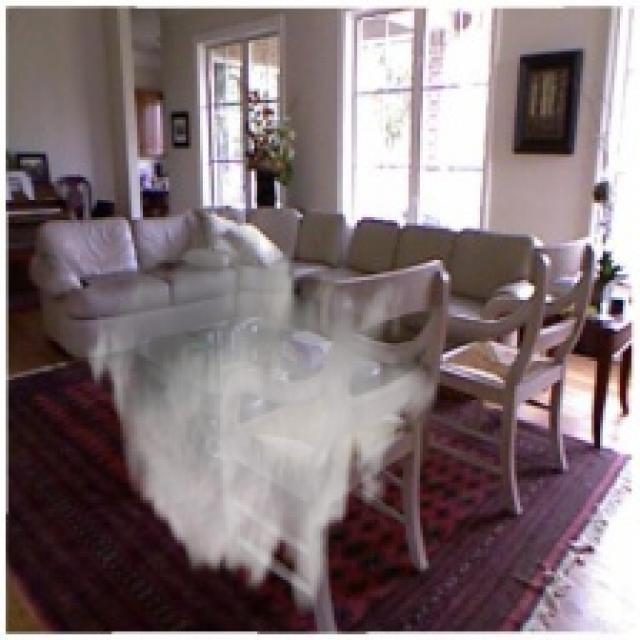Smoke: (83, 200, 440, 617)
